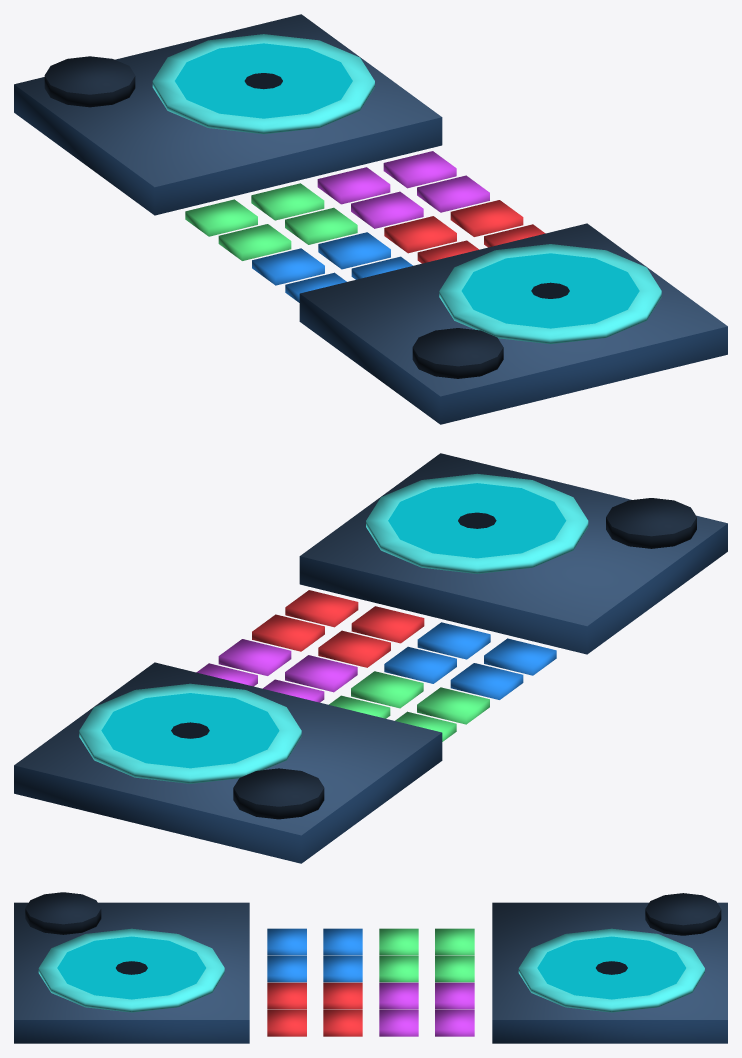
File: DJ_Top.fbx
3 views of the same model, one above another, from view 1: azimuth 30°, elevation 25°; view 2: azimuth 150°, elevation 25°; view 3: azimuth 270°, elevation 25° (orthographic). The views are drawn at different scales.
Parts seen in each view (by area): view 1: Cube.023, Cube.022; view 2: Cube.023, Cube.022; view 3: Cube.023, Cube.022.
Boxes of the visible parts, left/top/right/bottom form: Cube.023: left=14, top=14, right=727, bottom=424; Cube.022: left=152, top=34, right=661, bottom=344; Cube.023: left=14, top=453, right=727, bottom=863; Cube.022: left=79, top=473, right=588, bottom=783; Cube.023: left=14, top=892, right=727, bottom=1043; Cube.022: left=38, top=928, right=704, bottom=1036.
Bounding box in the file's own units: 78.35 × 11.87 × 201.
